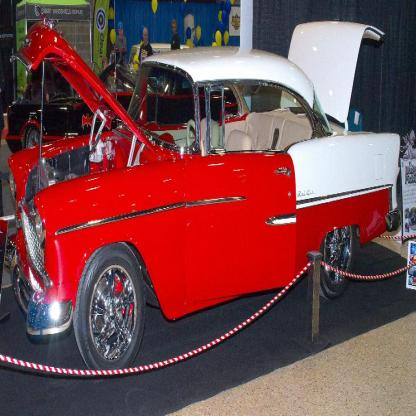Car: (8, 4, 403, 372)
